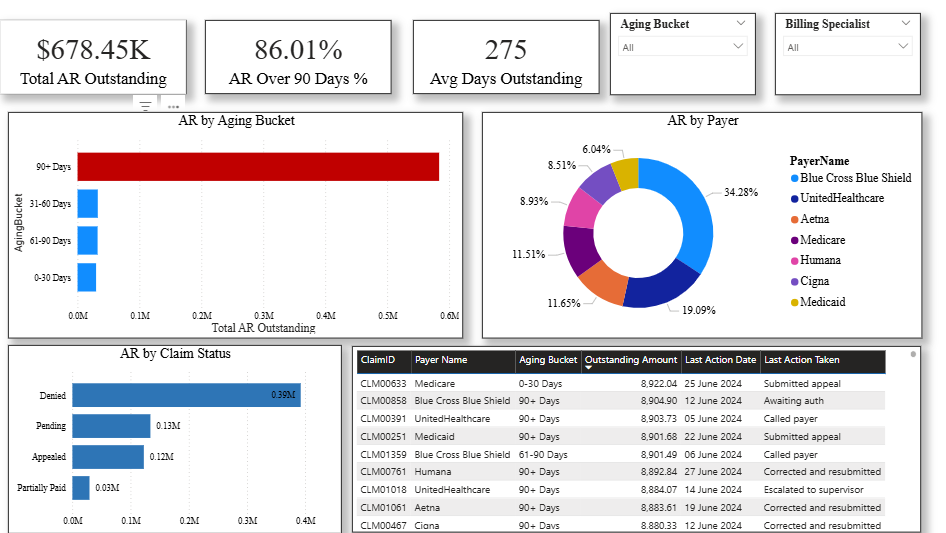

The page's visual inventory and layout, read from the dashboard file:
{"tool":"powerbi","page":{"name":"AR Aging","canvas":[1280,720],"ordinal":2},"visuals":[{"type":"card","fields":{"Values":["Measures Table.Total AR Outstanding"]},"box":[0,26.7,251.7,100],"z":0},{"type":"card","fields":{"Values":["Measures Table.AR Over 90 Days %"]},"box":[276.7,26.7,251.7,100],"z":1000},{"type":"card","fields":{"Values":["Measures Table.Avg Days Outstanding"]},"box":[558.3,26.7,251.7,100],"z":2000},{"type":"barChart","title":"AR by Aging Bucket","fields":{"Category":["AR_Aging.AgingBucket"],"Y":["Measures Table.Total AR Outstanding"]},"box":[10.8,150.8,615.4,306.2],"z":3000},{"type":"donutChart","title":"AR by Payer","fields":{"Y":["Measures Table.Total AR Outstanding"],"Category":["Claims_Data.PayerName"]},"box":[650.8,150.8,595.4,306.2],"z":4000},{"type":"clusteredBarChart","title":"AR by Claim Status","fields":{"Category":["AR_Aging.ClaimStatus"],"Y":["Measures Table.Total AR Outstanding"]},"box":[10.8,466.2,450.8,255.4],"z":5000},{"type":"tableEx","fields":{"Values":["AR_Aging.ClaimID","AR_Aging.PayerName","AR_Aging.AgingBucket","Sum(AR_Aging.OutstandingAmount)","AR_Aging.LastActionDate","AR_Aging.LastActionTaken"]},"box":[475.4,467.7,769.2,252.3],"z":6000},{"type":"slicer","title":"Aging Bucket","fields":{"Values":["AR_Aging.AgingBucket"]},"box":[824.6,16.9,196.9,110.8],"z":7000},{"type":"slicer","title":"Aging Bucket","fields":{"Values":["AR_Aging.BillingSpecialist"]},"box":[1047.7,16.9,196.9,110.8],"z":8000}]}

Visuals, with their boxes in screenshot pixels (x1, y1, x2, y2), scaled from the page's 1280x720 canvas onto the 946x533 screenshot:
card - Measures Table.Total AR Outstanding: 0 20 186 94
card - Measures Table.AR Over 90 Days %: 204 20 391 94
card - Measures Table.Avg Days Outstanding: 413 20 599 94
"AR by Aging Bucket" barChart: 8 112 463 338
"AR by Payer" donutChart: 481 112 921 338
"AR by Claim Status" clusteredBarChart: 8 345 341 532
tableEx - AR_Aging.ClaimID x AR_Aging.PayerName: 351 346 920 532
"Aging Bucket" slicer: 609 13 755 95
"Aging Bucket" slicer: 774 13 920 95
